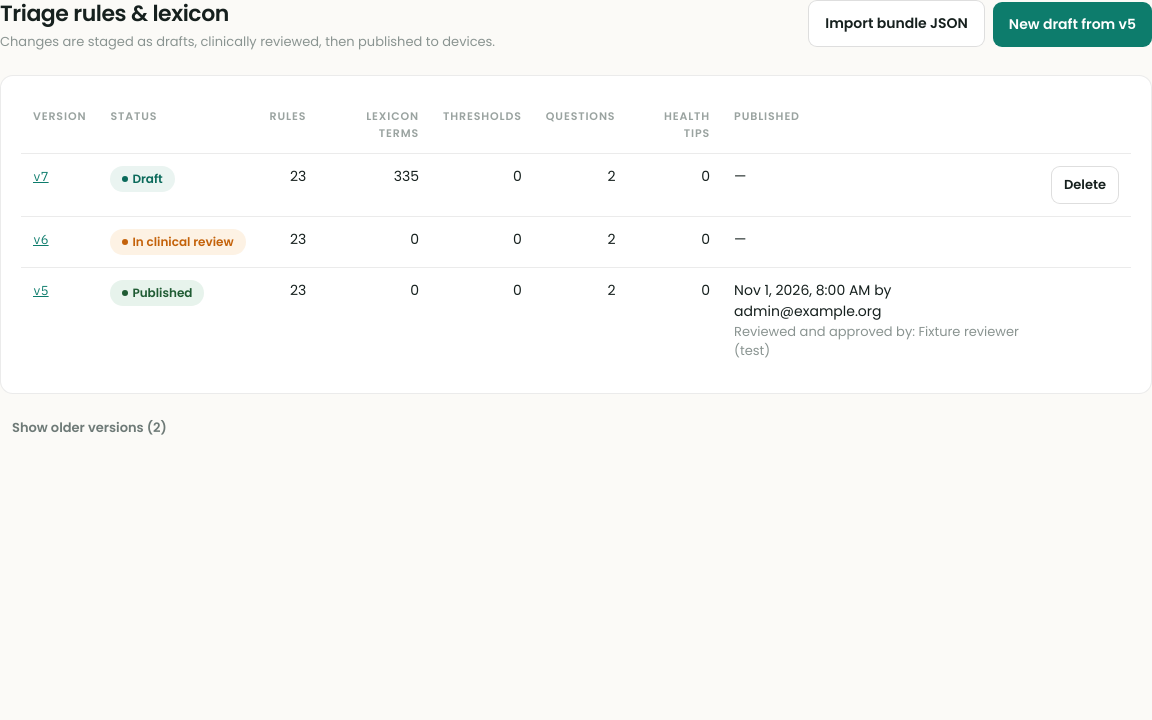
Test: Triage rules & lexicon: the version list › says what the draft holds before deleting, and only deletes once confirmed
Click the button "Delete": {"x": 1085, "y": 185} [1051,166,1119,204]
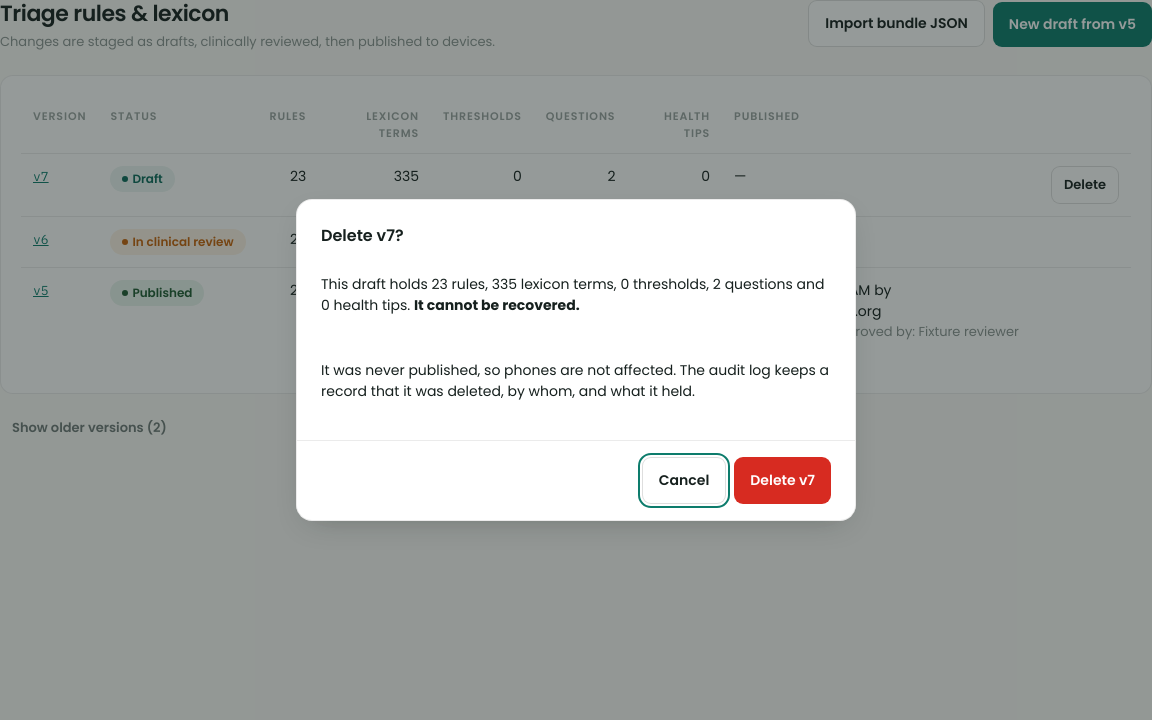
Now the text "23 rules, 335 lexicon terms" is shown, box [321,274,831,316]
Now the text "It cannot be recovered." is shown, box [414,295,580,315]
Click the button "Delete v7": {"x": 783, "y": 480} [734,457,831,504]
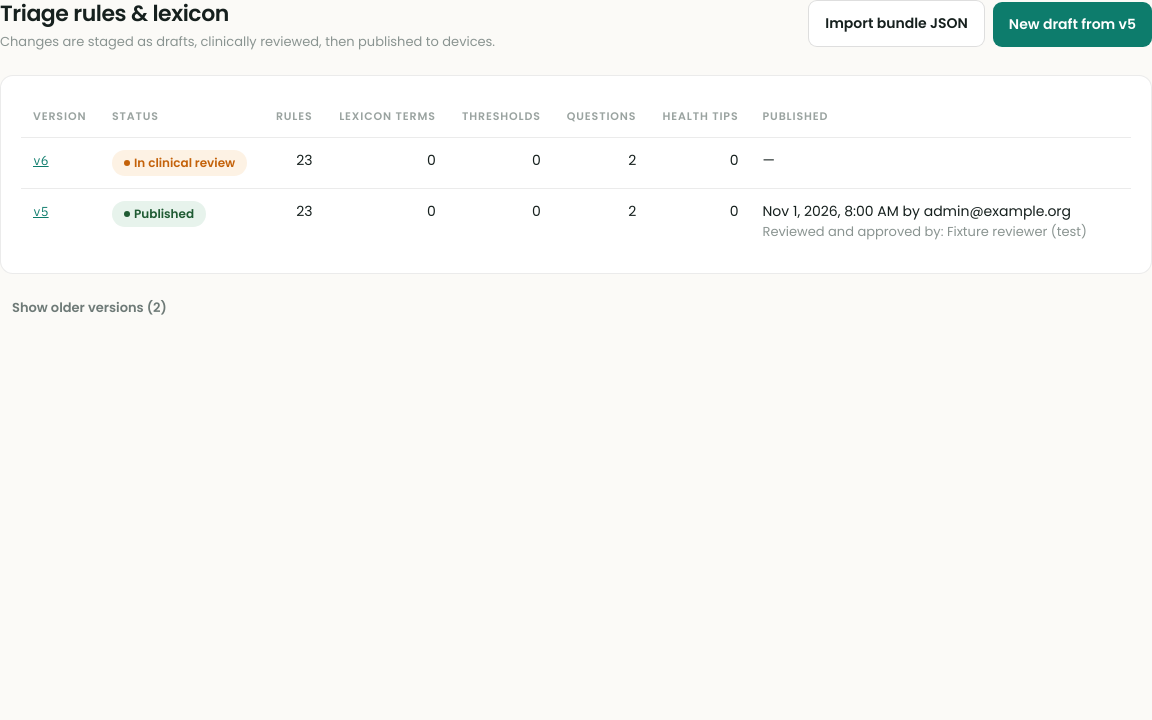
Now the link "v7" is gone
